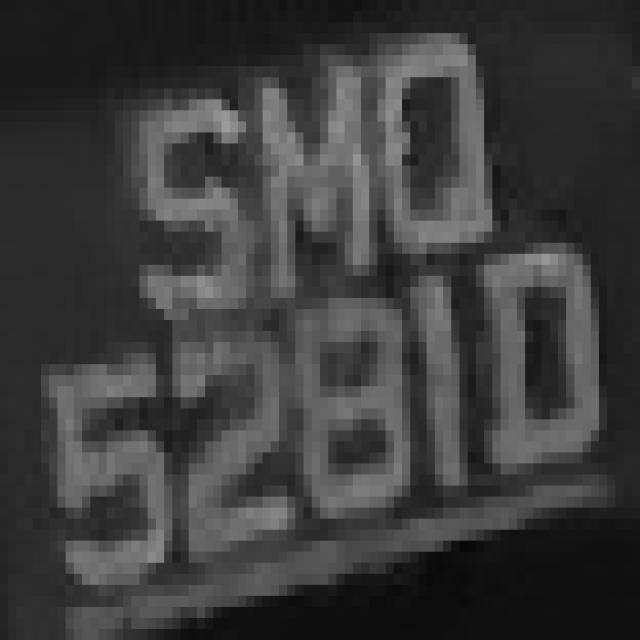1: (418, 254, 492, 552)
2: (164, 309, 312, 574)
5: (25, 320, 164, 618)
8: (262, 265, 418, 541)
D: (468, 210, 607, 508)
M: (230, 44, 377, 298)
Q: (353, 33, 492, 276)
S: (90, 99, 246, 320)
